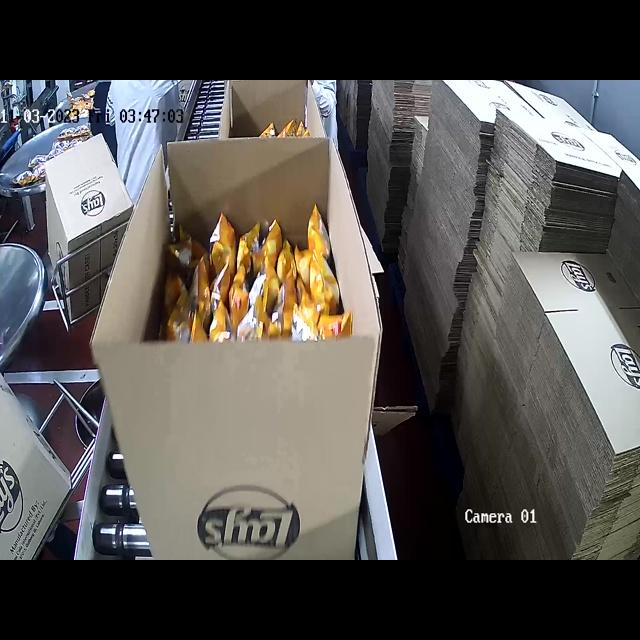cheese: (177, 216, 357, 376), (240, 119, 338, 139)
